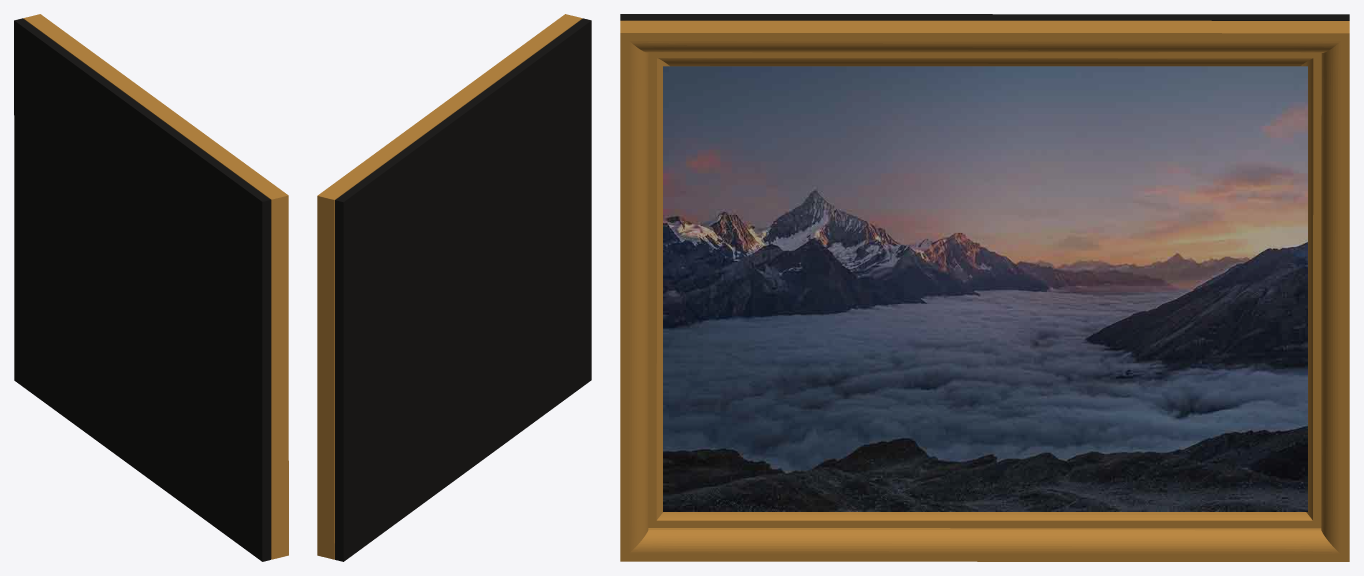
3 renders of one model, left to right at view 1: azimuth 30°, elevation 25°; view 2: azimuth 150°, elevation 25°; view 3: azimuth 270°, elevation 25°, orthographic. The views are drawn at different scales.
Visible parts, largest first — view 1: frame.001_3.001, back panel.001_2.001; view 2: frame.001_3.001, back panel.001_2.001; view 3: frame.001_3.001, back panel.001_2.001.
Part boxes in pixels (<box>): frame.001_3.001: <box>14,18,270,561</box>; back panel.001_2.001: <box>23,14,288,559</box>; frame.001_3.001: <box>335,18,591,561</box>; back panel.001_2.001: <box>317,14,582,559</box>; frame.001_3.001: <box>620,14,1349,511</box>; back panel.001_2.001: <box>620,20,1349,561</box>.
Bounding box in the file's own units: 1.05 × 13.7 × 17.12.
Materials: 3 (1 with a texture image).
